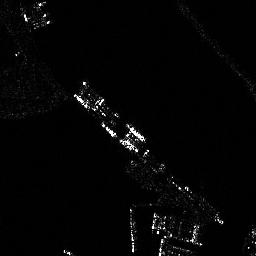ship: (126, 121, 148, 141), (99, 98, 120, 117), (74, 94, 92, 111), (102, 121, 118, 138), (120, 139, 138, 152)
